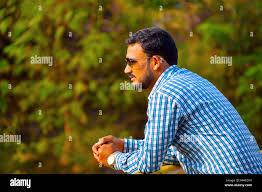Human: (99, 29, 261, 176)
